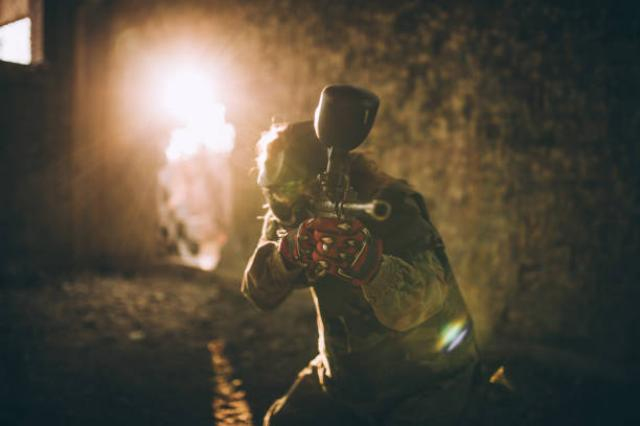other: (237, 115, 475, 412)
